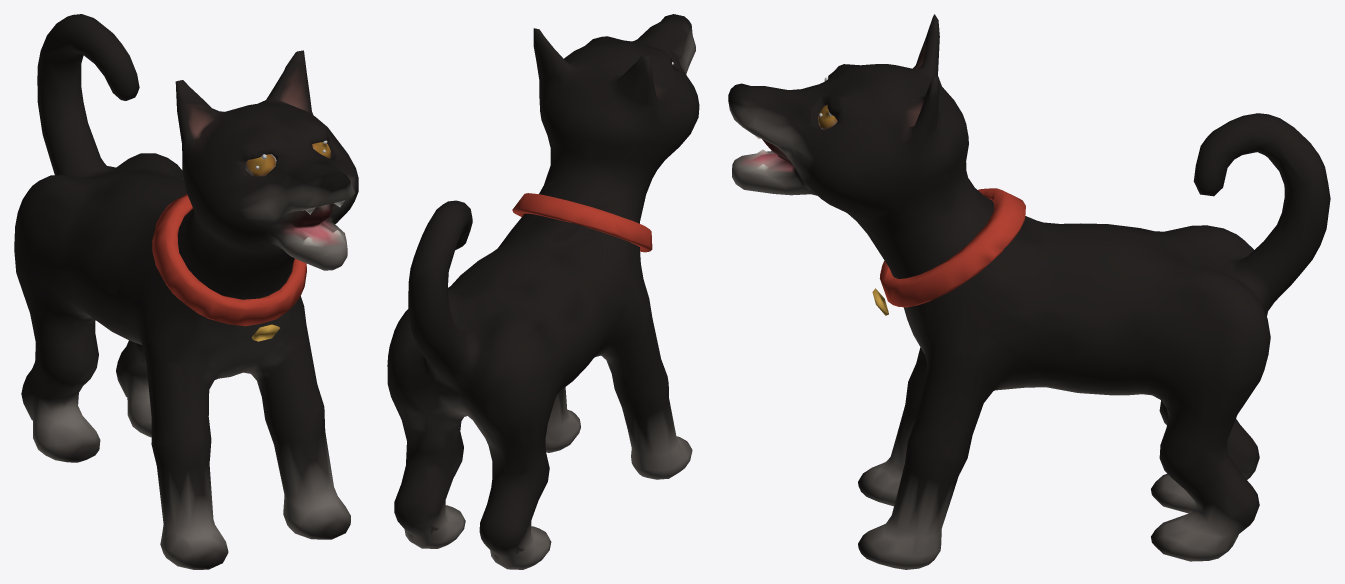
The model's file is cho_muc_sua.glb.
3 renders of one model, left to right at view 1: azimuth 30°, elevation 25°; view 2: azimuth 150°, elevation 25°; view 3: azimuth 270°, elevation 25°, orthographic. The views are drawn at different scales.
Parts seen in each view (by area): view 1: cho_muc_sua; view 2: cho_muc_sua; view 3: cho_muc_sua.
Part boxes in pixels (<box>): cho_muc_sua: <box>14,14,358,569</box>; cho_muc_sua: <box>387,14,699,569</box>; cho_muc_sua: <box>728,14,1330,569</box>.
Size of the model in its own units: 0.3725 by 0.9512 by 1.07.
